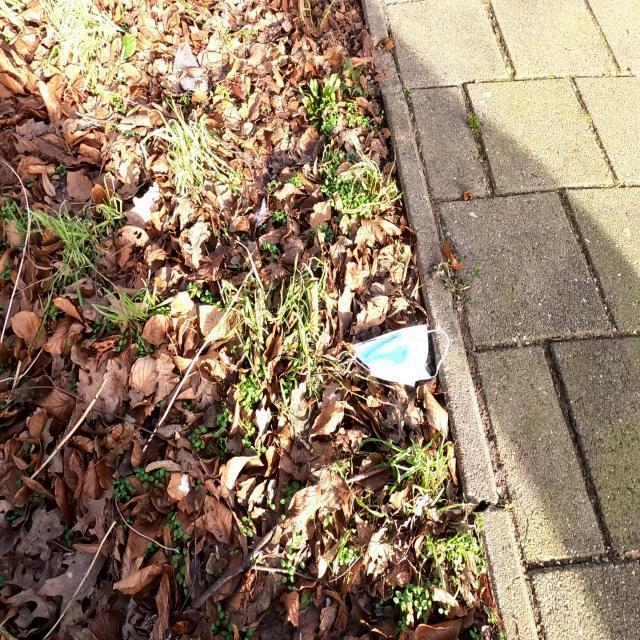Mask: (342, 328, 464, 388)
